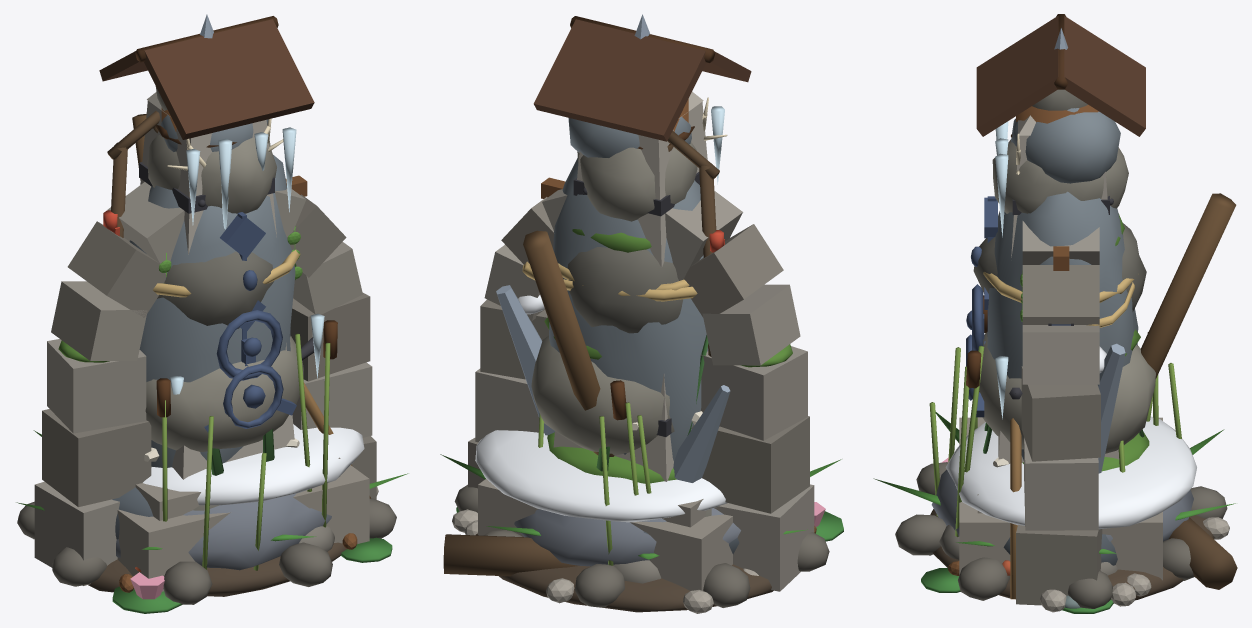
File: waystones.glb
3 renders of one model, left to right at view 1: azimuth 30°, elevation 25°; view 2: azimuth 150°, elevation 25°; view 3: azimuth 270°, elevation 25°, orthographic. The views are drawn at different scales.
Visible parts, largest first — view 1: ws_river, ws_pond, ws_frost, ws_cove, ws_lodge, ws_quarry, ws_marsh, ws_camp; view 2: ws_river, ws_pond, ws_frost, ws_lodge, ws_cove, ws_quarry, ws_marsh, ws_camp; view 3: ws_river, ws_cove, ws_frost, ws_pond, ws_lodge, ws_marsh, ws_quarry, ws_camp.
Boxes of the visible parts, box(x1,y1,x2,y2) form: ws_river: box(34, 182, 376, 585); ws_pond: box(16, 86, 408, 571); ws_frost: box(116, 14, 364, 570); ws_cove: box(112, 115, 300, 539); ws_lodge: box(99, 16, 334, 551); ws_quarry: box(117, 92, 378, 591); ws_marsh: box(88, 114, 392, 613); ws_camp: box(17, 111, 396, 604); ws_river: box(468, 189, 814, 591); ws_pond: box(440, 141, 841, 559); ws_frost: box(475, 14, 740, 566); ws_lodge: box(533, 16, 751, 583); ws_cove: box(549, 116, 739, 554); ws_quarry: box(452, 91, 758, 613); ws_marsh: box(456, 230, 843, 612); ws_camp: box(443, 131, 829, 607); ws_river: box(1016, 221, 1102, 608); ws_cove: box(966, 108, 1144, 565); ws_frost: box(931, 28, 1196, 541); ws_pond: box(873, 89, 1235, 575); ws_lodge: box(939, 14, 1145, 575); ws_marsh: box(921, 193, 1236, 613); ws_quarry: box(959, 115, 1229, 612); ws_camp: box(895, 462, 1237, 608).
Size of the model in its own units: 1.75 by 2.59 by 1.62.
